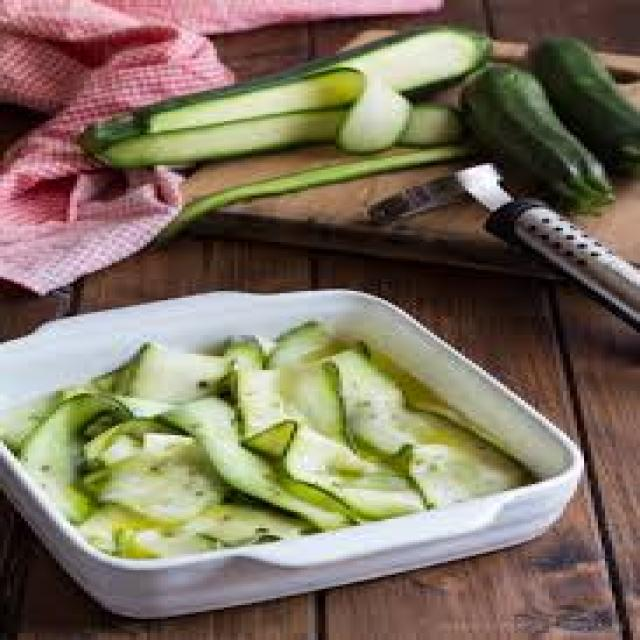Zucchini: (475, 64, 620, 201)
